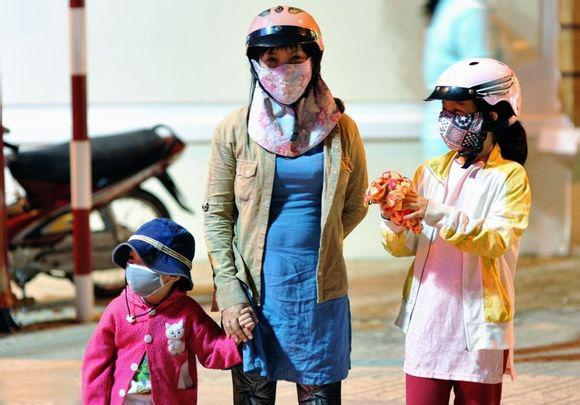OK: (256, 45, 315, 104), (438, 101, 485, 151), (126, 254, 168, 296)
